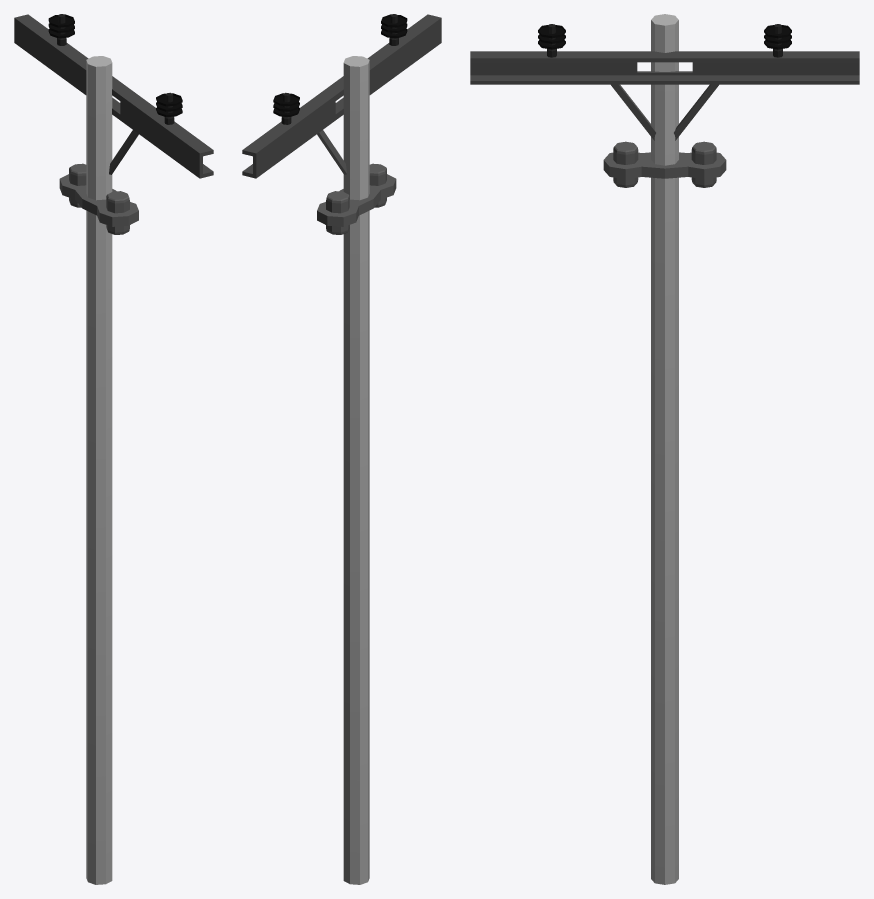
File: TiangListrik.fbx
3 renders of one model, left to right at view 1: azimuth 30°, elevation 25°; view 2: azimuth 150°, elevation 25°; view 3: azimuth 270°, elevation 25°, orthographic. The views are drawn at different scales.
Visible parts, largest first — view 1: TiangListrik_LOD0; view 2: TiangListrik_LOD0; view 3: TiangListrik_LOD0.
Part boxes in pixels (<box>): TiangListrik_LOD0: <box>14,14,213,884</box>; TiangListrik_LOD0: <box>242,14,441,884</box>; TiangListrik_LOD0: <box>470,14,859,884</box>.
Size of what is drawn, in the model's own units: 70.77 by 1208 by 495.
